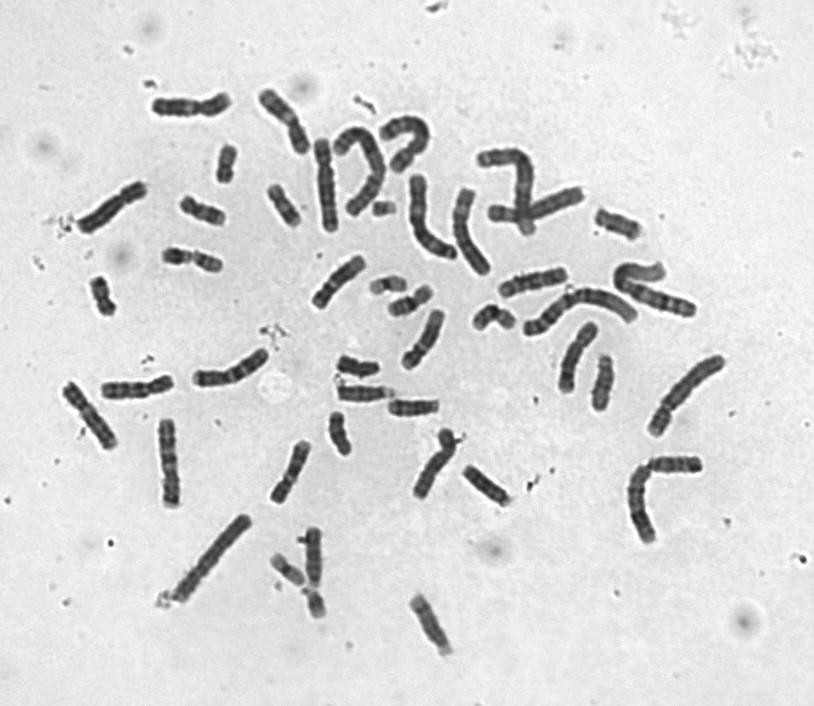chromosomes: (166, 507, 258, 609), (641, 351, 732, 441), (519, 286, 640, 343), (472, 144, 540, 243), (326, 113, 389, 219), (610, 256, 699, 322), (68, 176, 151, 242), (483, 179, 592, 227), (58, 379, 122, 459), (408, 174, 462, 267), (256, 82, 313, 162), (406, 425, 459, 505), (452, 188, 495, 281), (188, 346, 271, 394), (398, 304, 451, 374), (267, 437, 317, 510), (309, 249, 366, 313), (407, 588, 458, 659), (556, 320, 602, 396), (626, 461, 664, 551), (378, 114, 431, 176), (493, 264, 571, 304), (312, 135, 342, 238), (461, 462, 517, 514), (156, 416, 186, 512), (96, 371, 178, 405), (145, 87, 237, 117), (333, 374, 405, 409), (259, 178, 305, 231), (594, 203, 646, 247), (157, 246, 229, 277), (177, 189, 230, 231), (382, 282, 439, 318), (586, 351, 616, 416), (86, 275, 122, 324), (464, 303, 519, 335), (382, 395, 448, 421), (267, 551, 313, 588), (327, 407, 358, 461), (328, 351, 383, 381), (303, 524, 327, 591), (363, 271, 417, 295), (212, 140, 238, 189), (644, 456, 704, 476), (301, 589, 334, 625), (372, 199, 401, 221)
